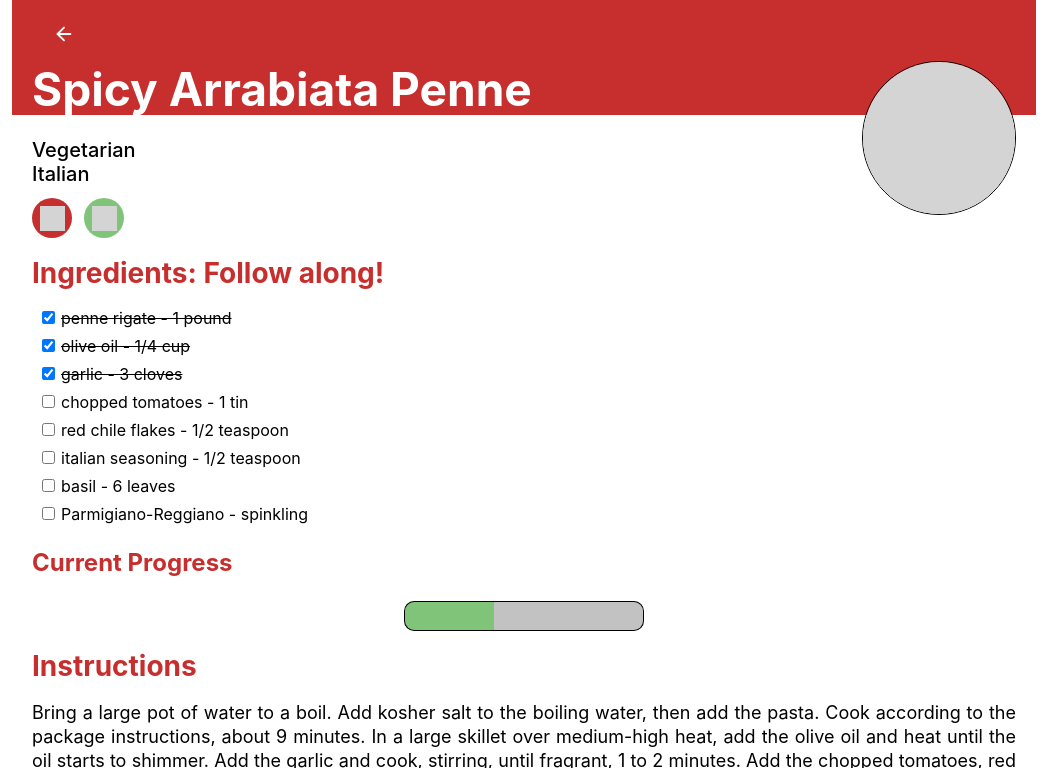
it: food details page structure testing › should correctly update progress we click though, until button enables
Expected: the heading "Spicy Arrabiata Penne" is shown, [32,61,532,117]
Click the checkbox labelled "chopped tomatoes - 1 tin" at (48, 402), box [42,395,55,408]
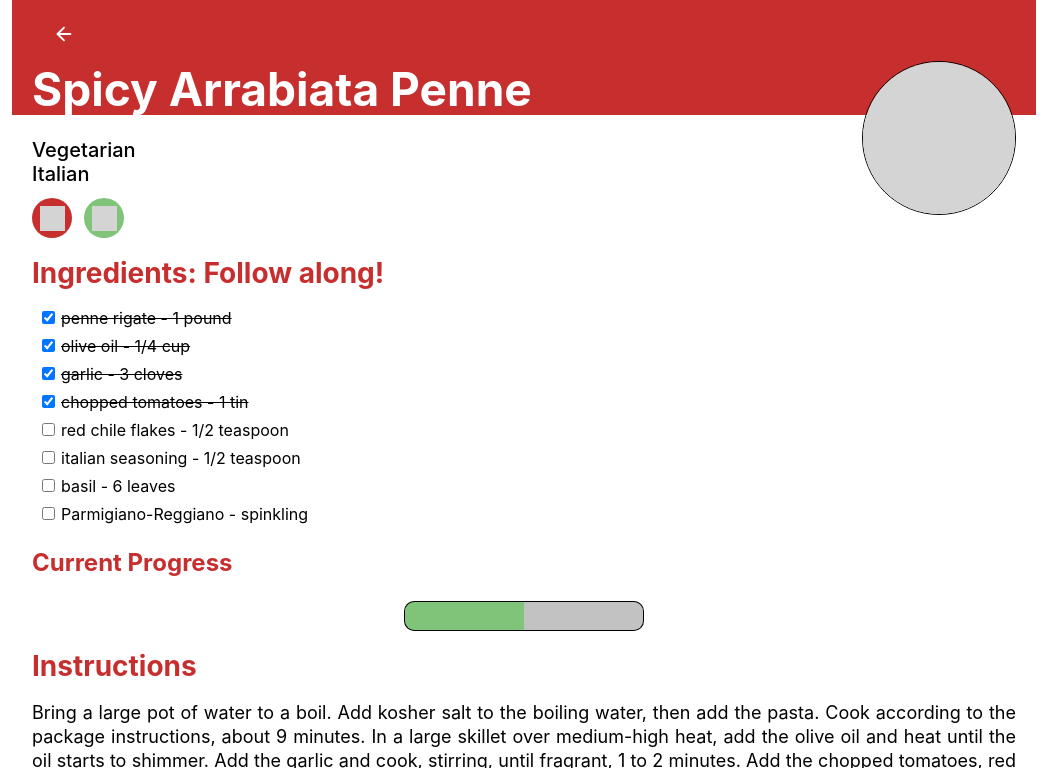
Click the checkbox labelled "red chile flakes - 1/2 teaspoon" at (48, 430), box [42,423,55,436]
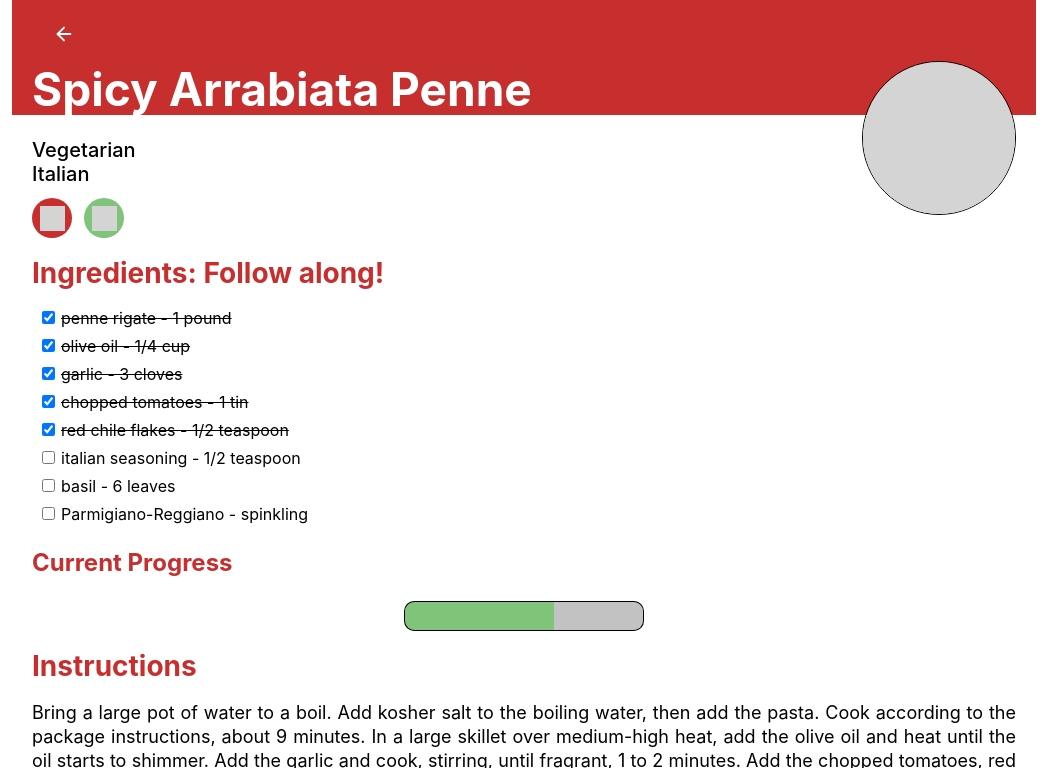
Click the checkbox labelled "italian seasoning - 1/2 teaspoon" at (48, 458), box [42,451,55,464]
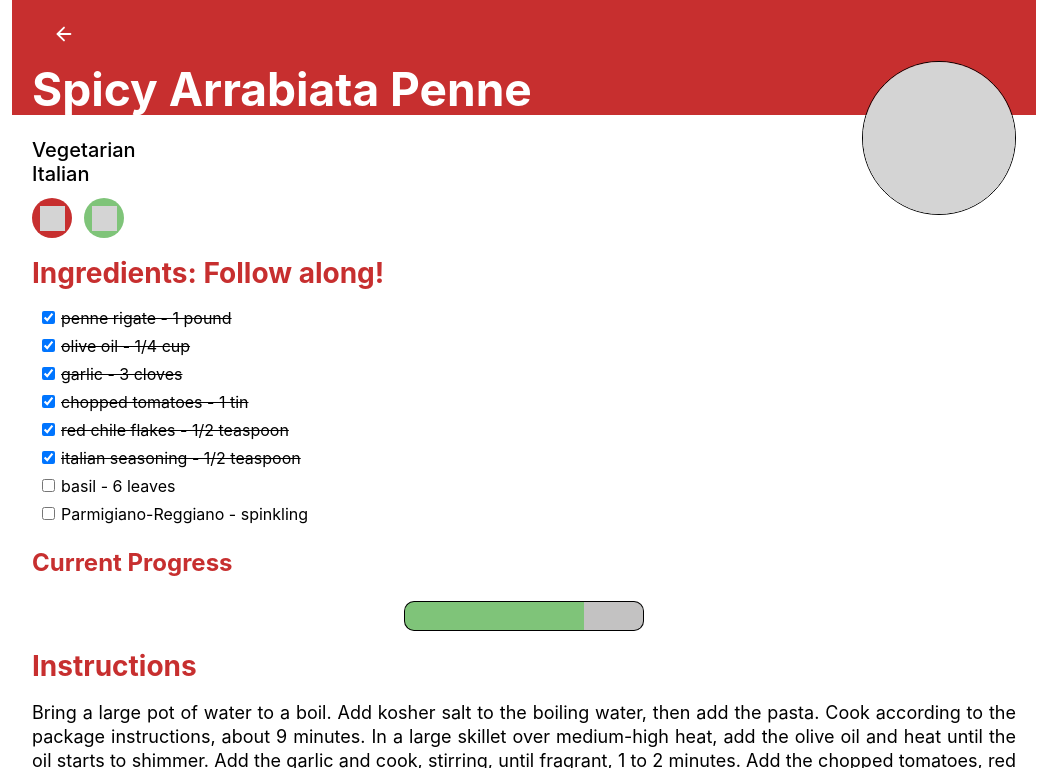
Click the checkbox labelled "basil - 6 leaves" at (48, 486), box [42,479,55,492]
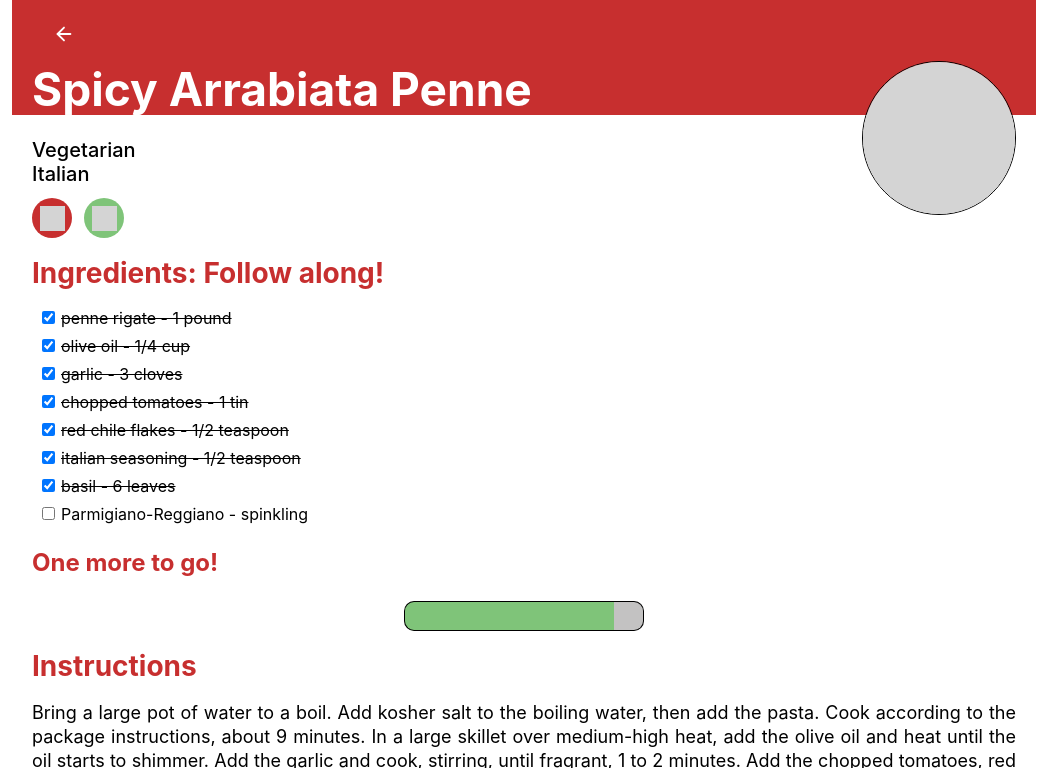
Click the checkbox labelled "Parmigiano-Reggiano - spinkling" at (48, 514), box [42,507,55,520]
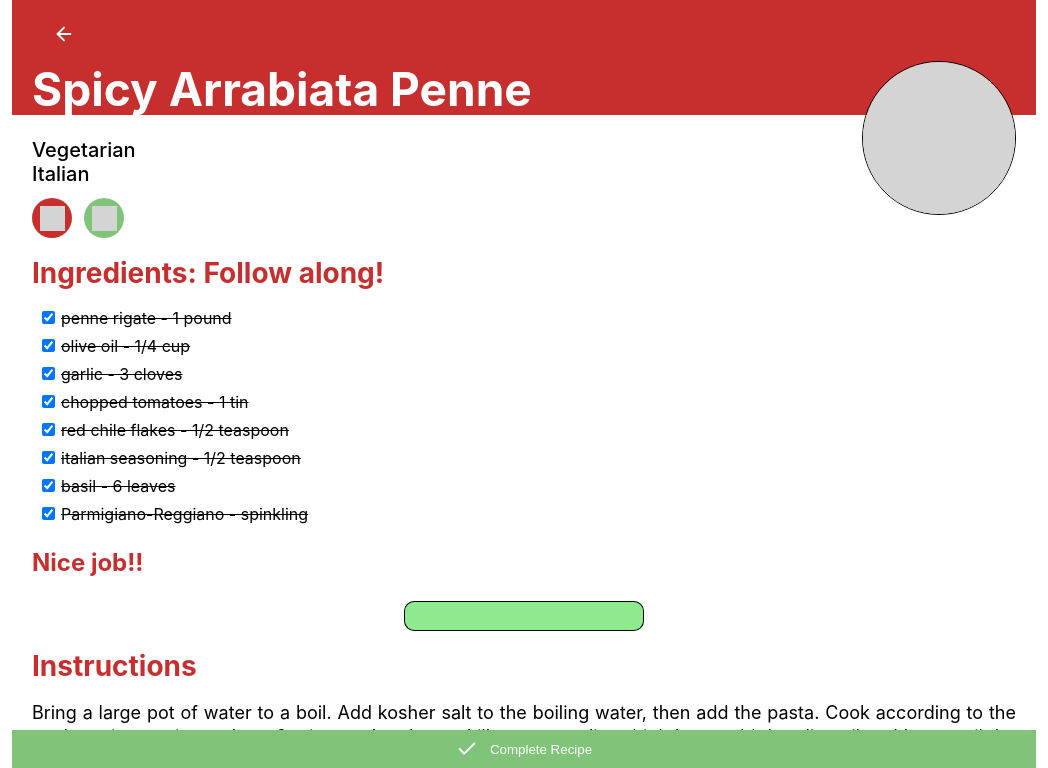
Expected: the button with test id "finish-recipe-btn" is enabled, [12,730,1036,767]
Click the checkbox labelled "Parmigiano-Reggiano - spinkling" at (48, 514), box [42,507,55,520]
(page scrolled)
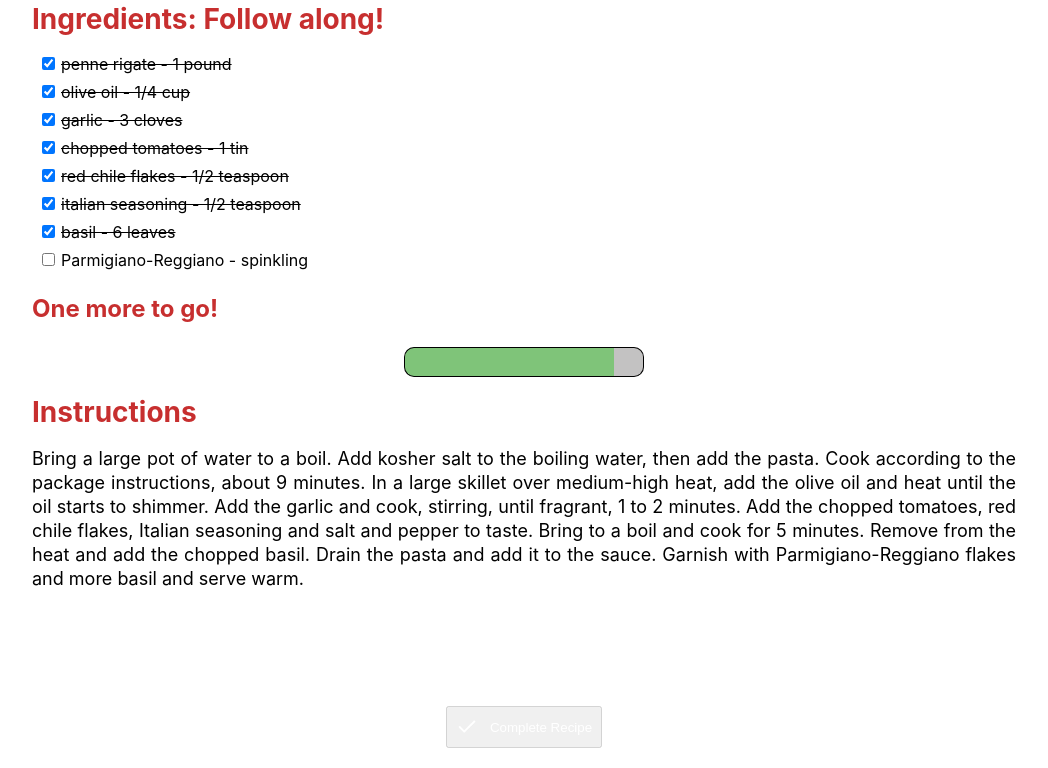
Expected: the button with test id "finish-recipe-btn" is disabled, [446,706,602,748]
